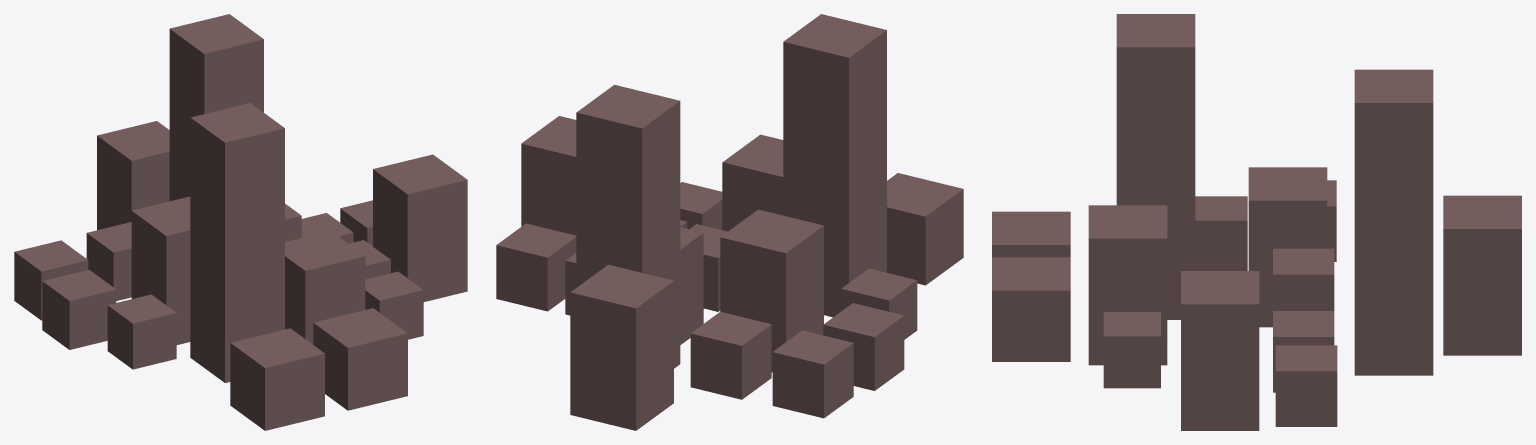
Rendered from House Set 2.fbx.
3 renders of one model, left to right at view 1: azimuth 30°, elevation 25°; view 2: azimuth 150°, elevation 25°; view 3: azimuth 270°, elevation 25°, orthographic. The views are drawn at different scales.
Parts seen in each view (by area): view 1: polySurface8; view 2: polySurface8; view 3: polySurface8.
Boxes of the visible parts, box(x1,y1,x2,y2) form: polySurface8: box(14, 14, 467, 430); polySurface8: box(496, 14, 963, 430); polySurface8: box(992, 14, 1521, 430).
Bounding box in the file's own units: 1.47 × 0.9786 × 1.67.
